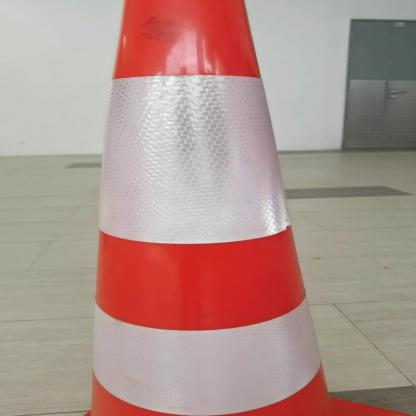cone: (14, 0, 415, 416)
